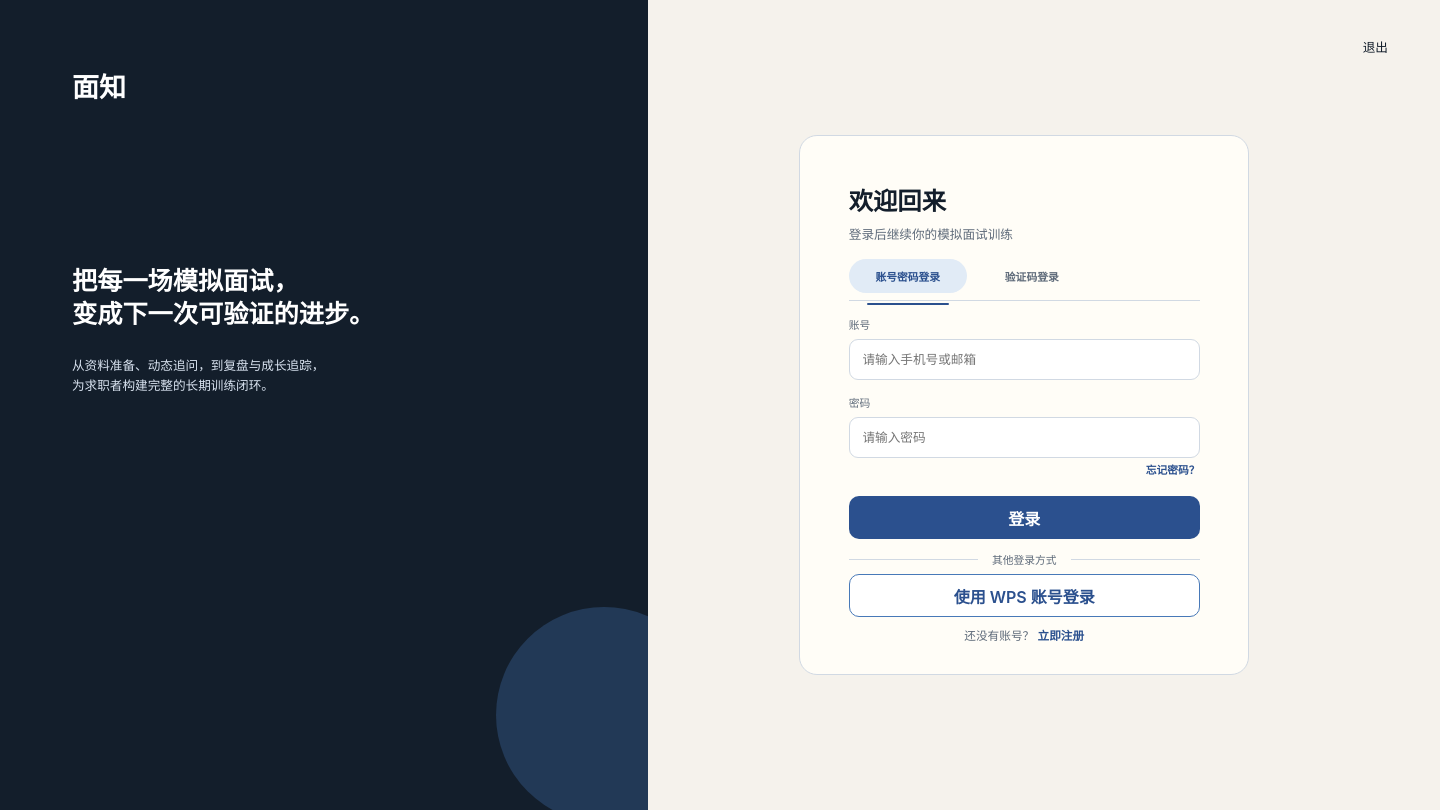
Scenario: LoginPage（设计稿账号密码 / 验证码 / WPS 登录） › 忘记密码两步流程：验证后重置密码成功
Click the button "忘记密码？" at (1173, 471), box [849,462,1200,478]
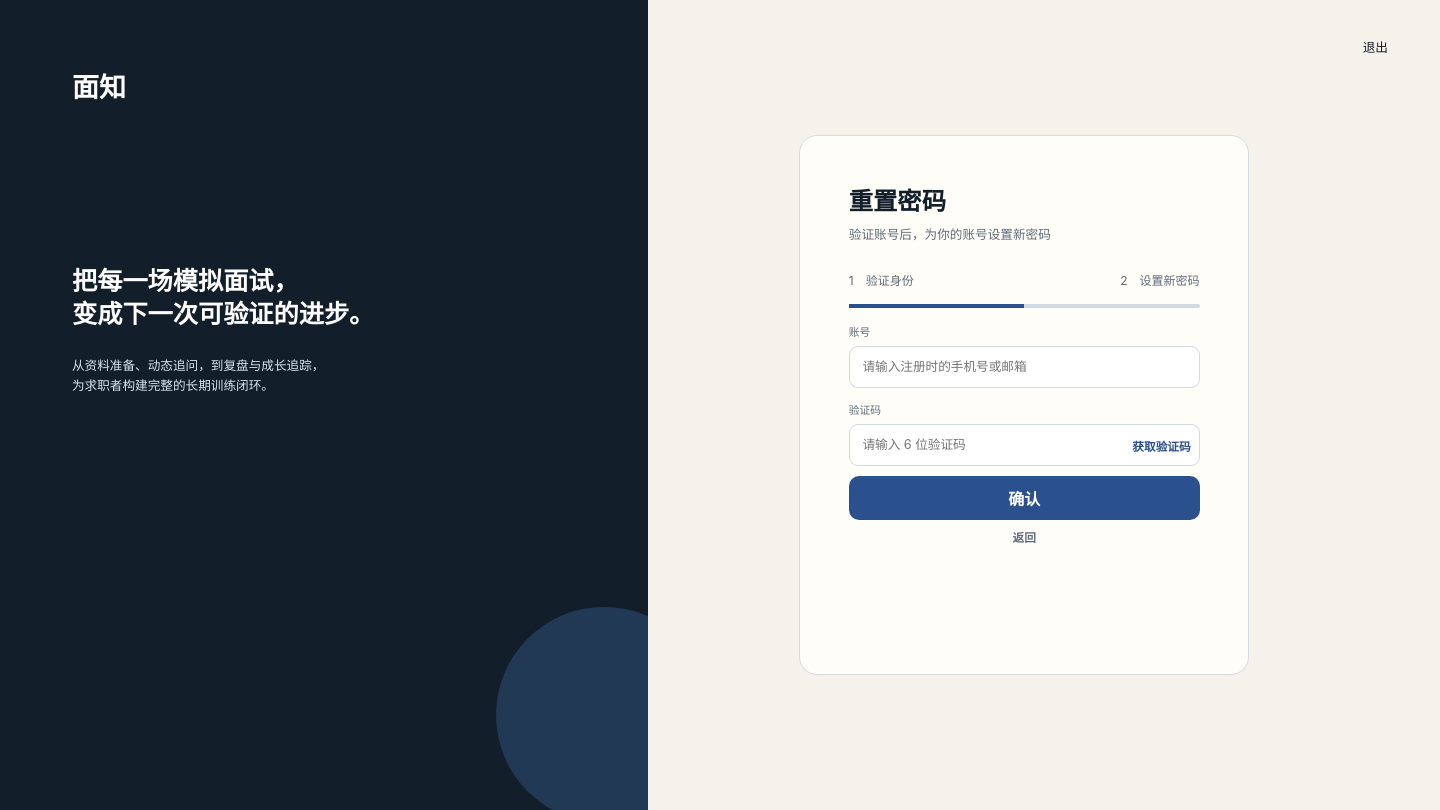
Type "demo@mianzhi.cn" into the field with placeholder "请输入注册时的手机号或邮箱" at (1024, 367), box [849,346,1200,388]
Type "123456" into the field with placeholder "请输入 6 位验证码" at (1024, 445), box [849,424,1200,466]
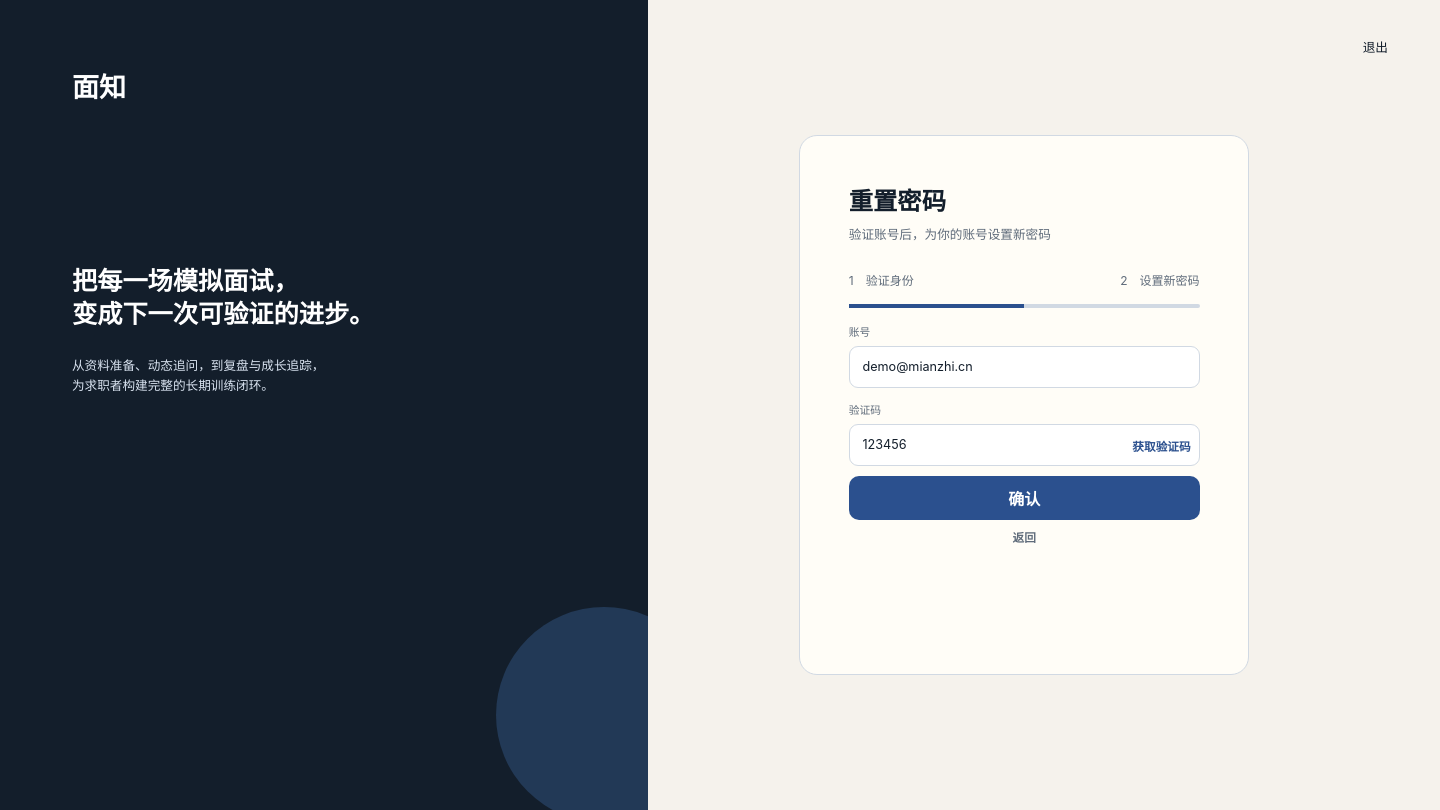
Click the button "确认" at (1024, 498), box [849,476,1200,520]
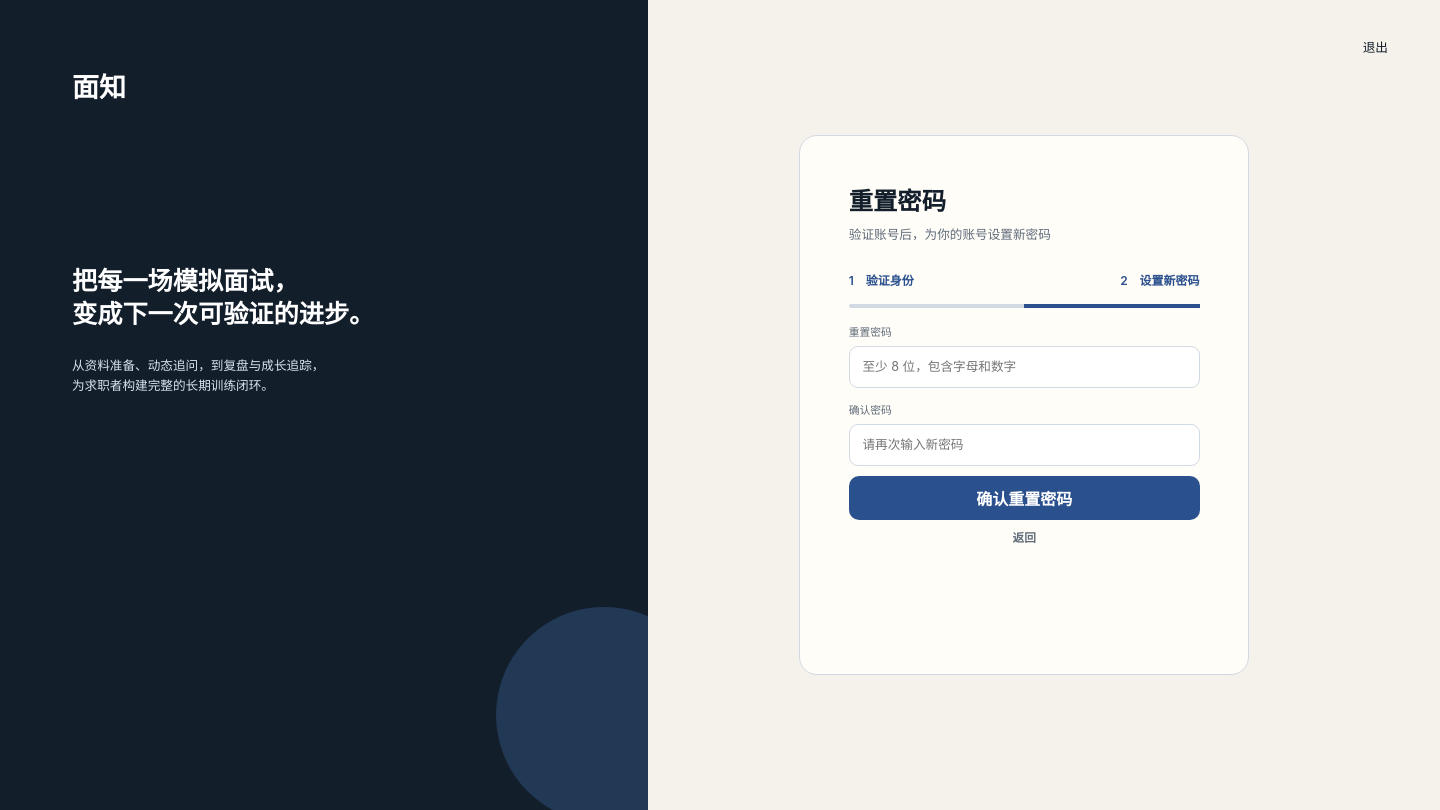
Check: the button "确认重置密码" is shown, box [849,476,1200,520]
Type "newpass123" into the password field with placeholder "至少 8 位，包含字母和数字" at (1024, 367), box [849,346,1200,388]
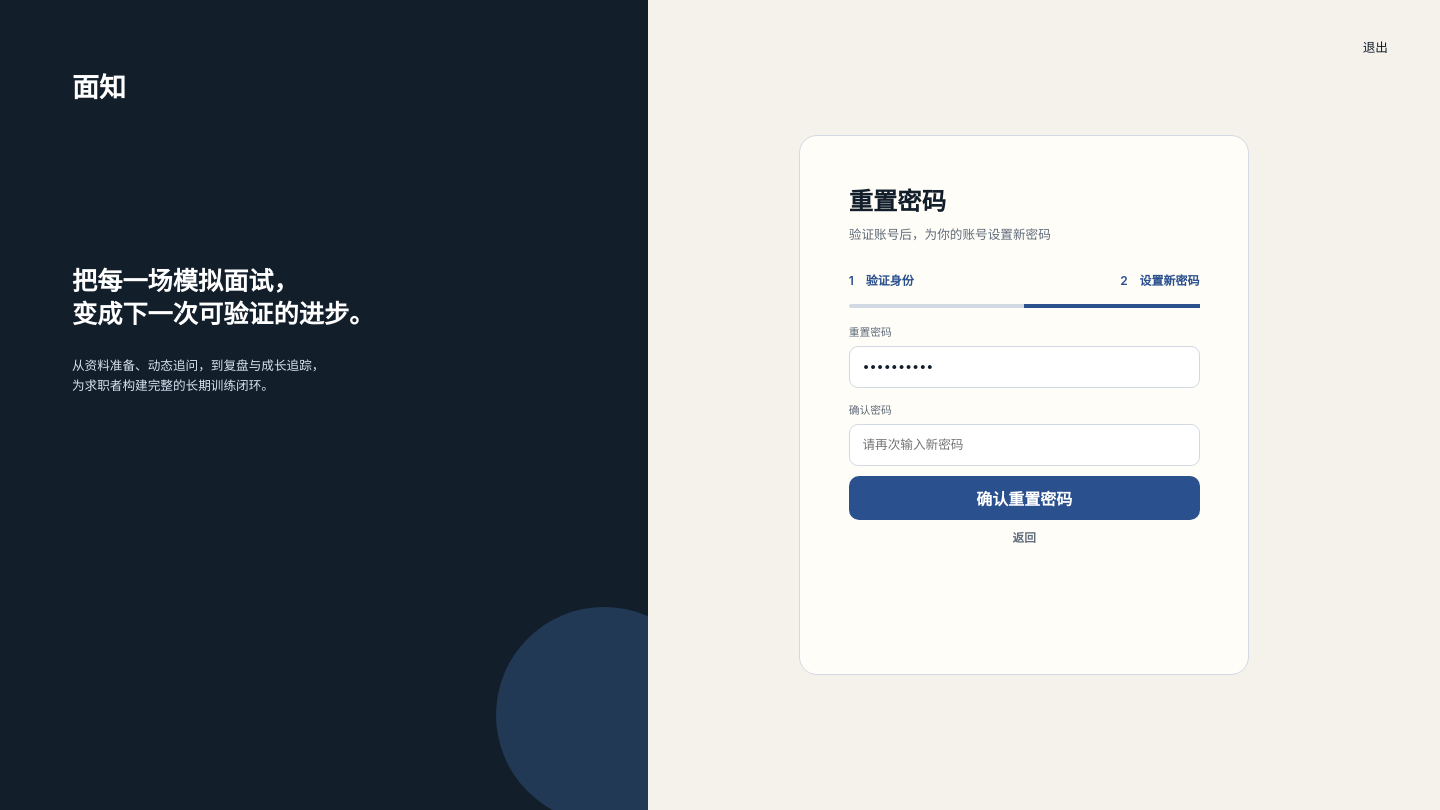
Type "newpass123" into the password field with placeholder "请再次输入新密码" at (1024, 445), box [849,424,1200,466]
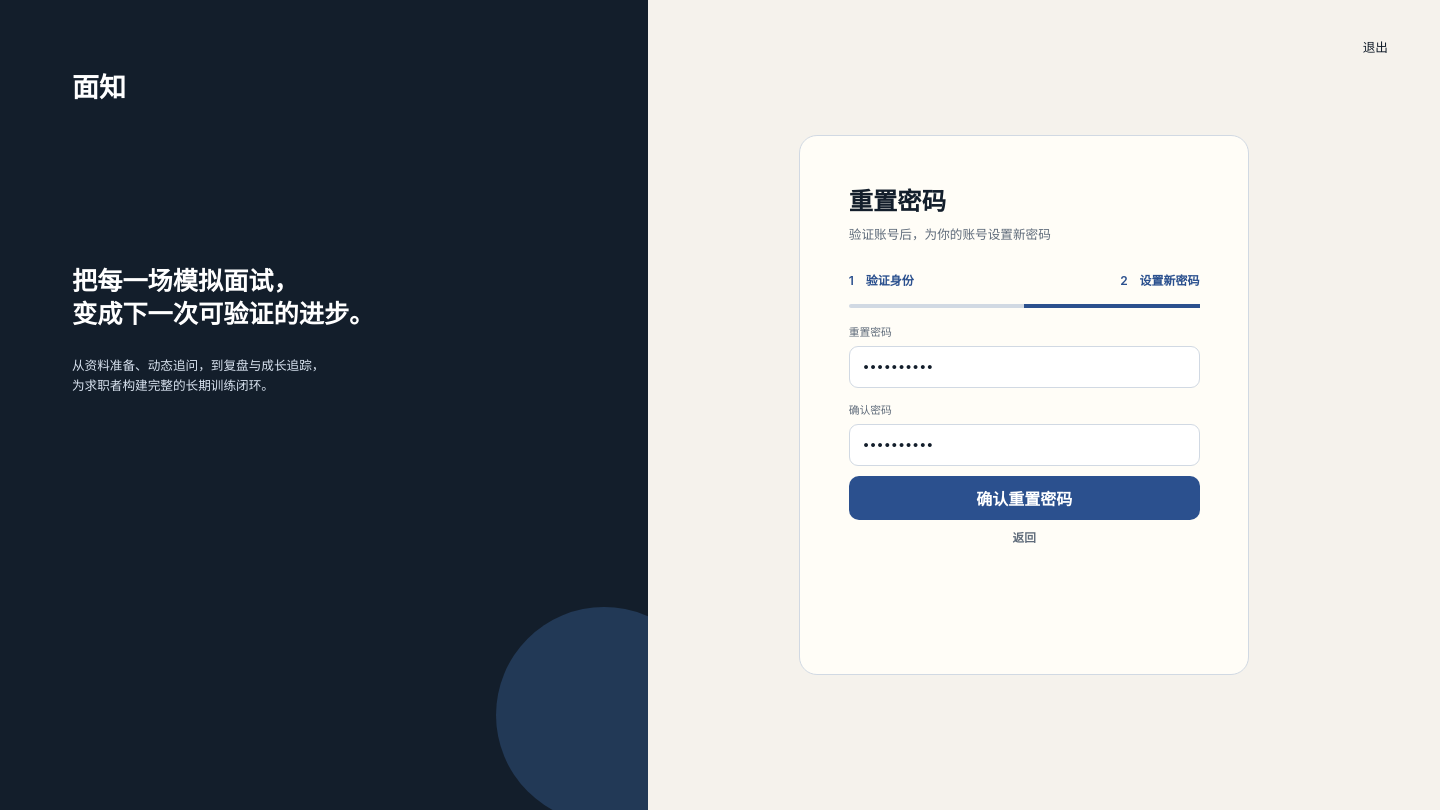
Click the button "确认重置密码" at (1024, 498), box [849,476,1200,520]
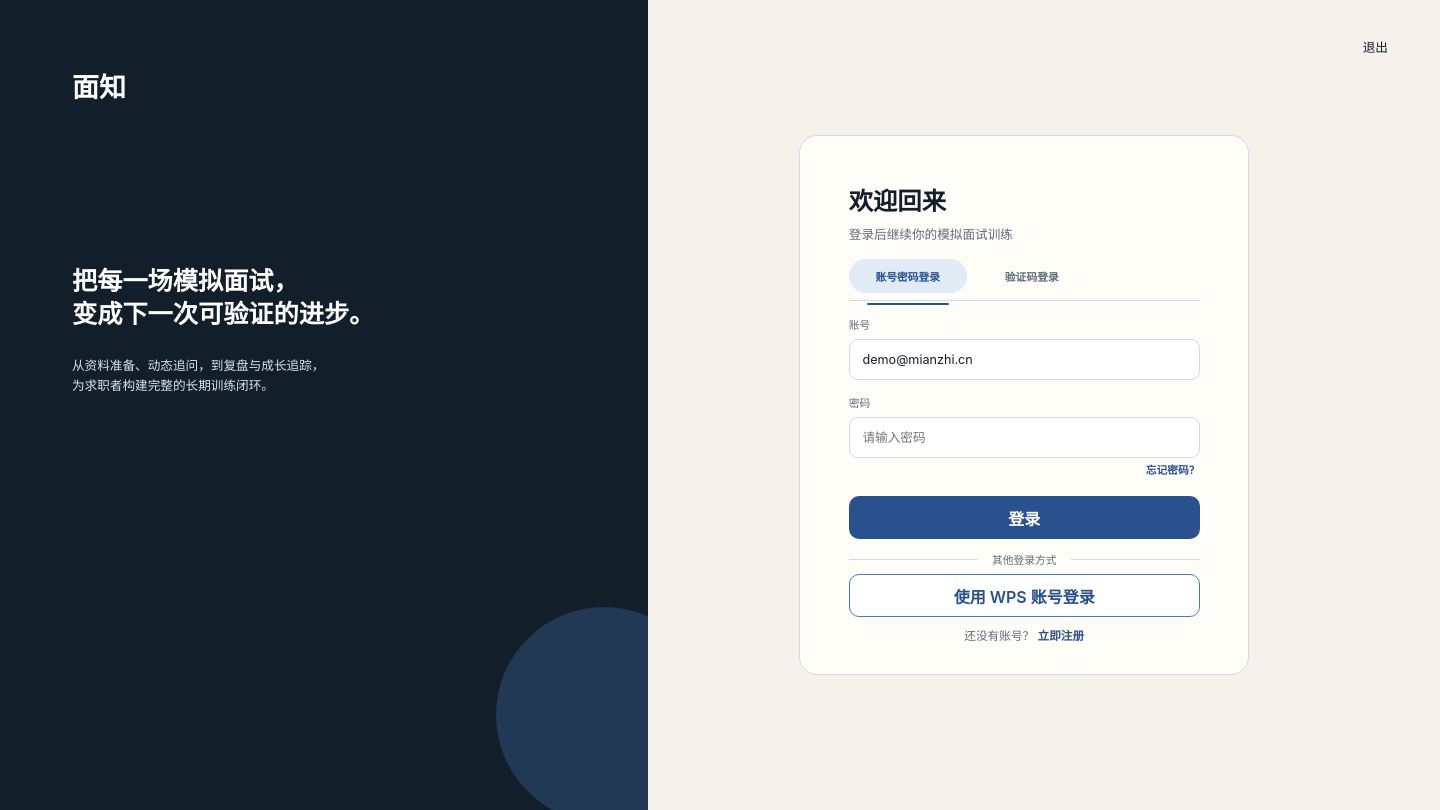
Check: the heading "欢迎回来" is shown, box [849,186,946,216]
